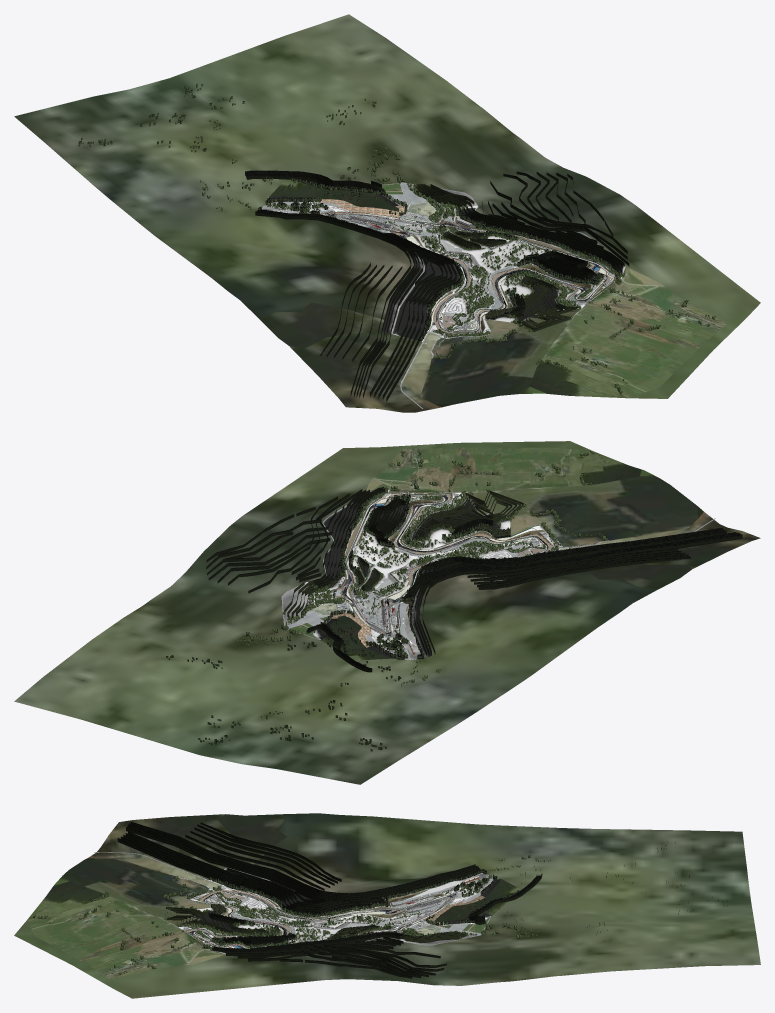
File: spa.glb
3 renders of one model, top to bottom at view 1: azimuth 30°, elevation 25°; view 2: azimuth 150°, elevation 25°; view 3: azimuth 270°, elevation 25°, orthographic. The views are drawn at different scales.
Parts seen in each view (by area): view 1: spa_2022; view 2: spa_2022; view 3: spa_2022.
Boxes of the visible parts, x1=… form: spa_2022: x1=14, y1=14, x2=760, y2=412; spa_2022: x1=14, y1=441, x2=760, y2=784; spa_2022: x1=14, y1=813, x2=760, y2=998.
Bounding box in the file's own units: 3222 × 198 × 5887.
85 materials, 81 textured.
